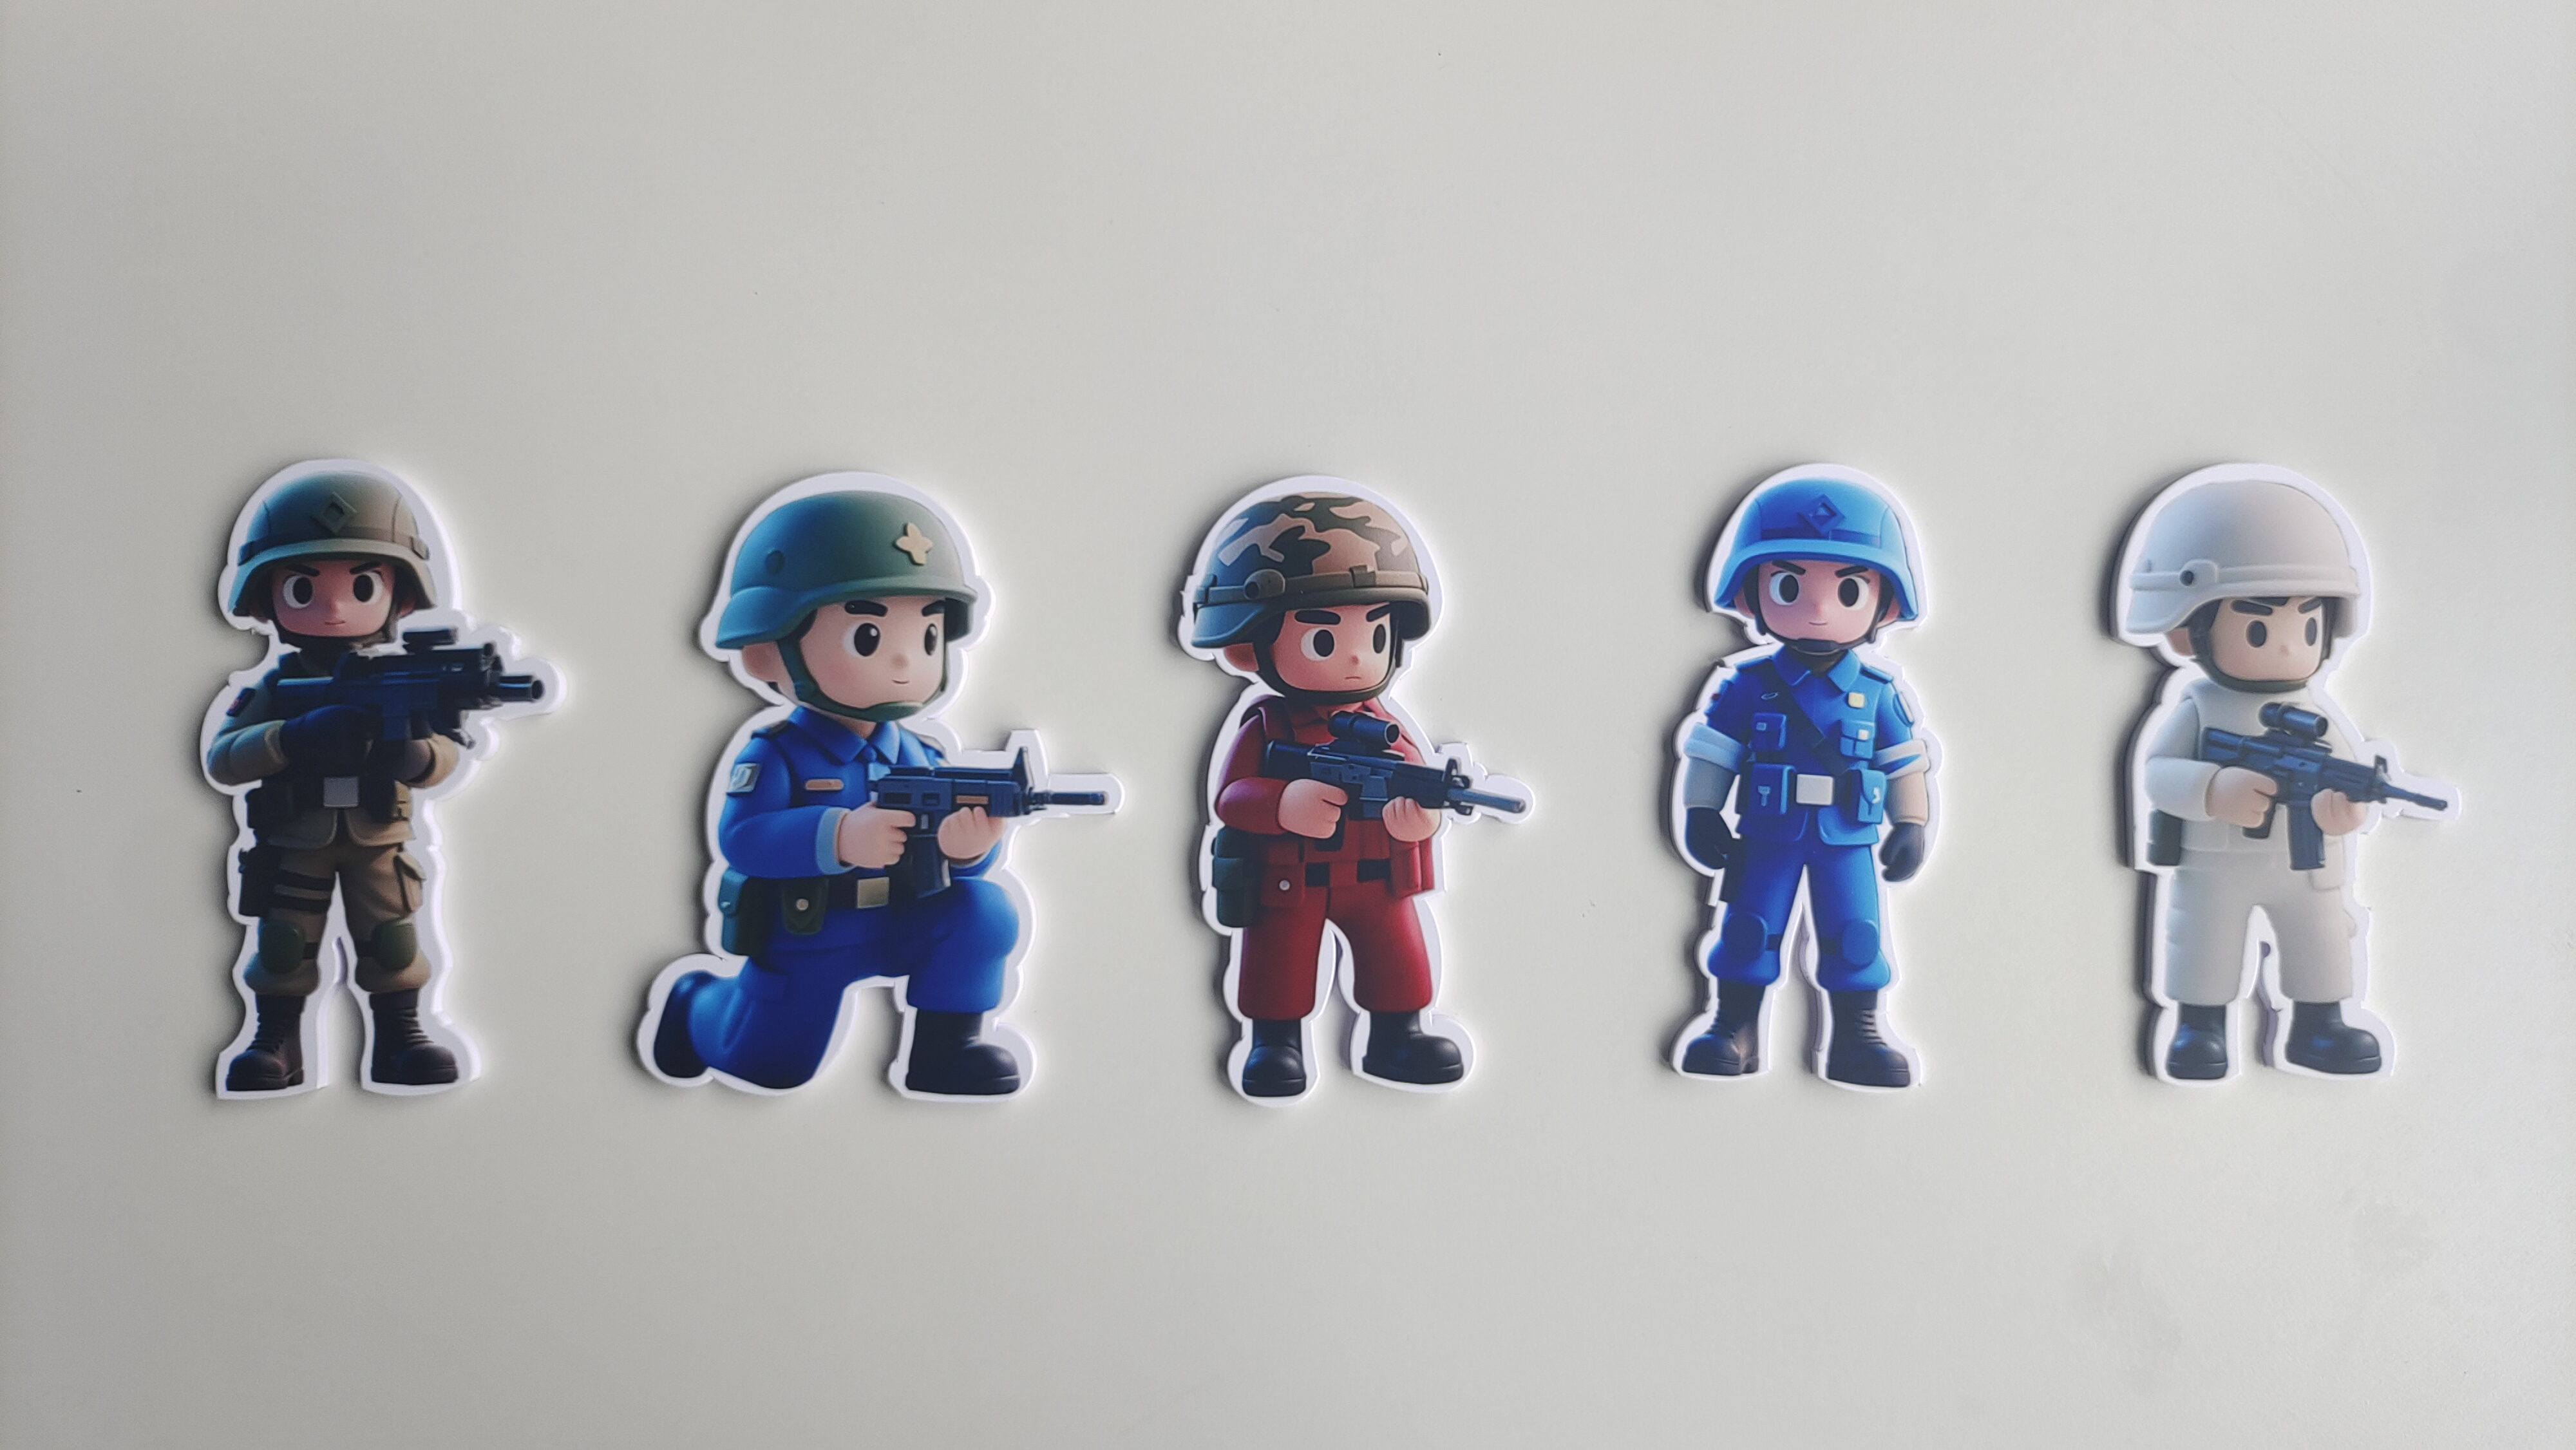enemy1: (1168, 702, 1491, 1103)
enemy2: (607, 720, 1067, 1116), (1651, 667, 1937, 1100)
friend: (173, 647, 536, 1096)
hostage: (2095, 690, 2408, 1096)
